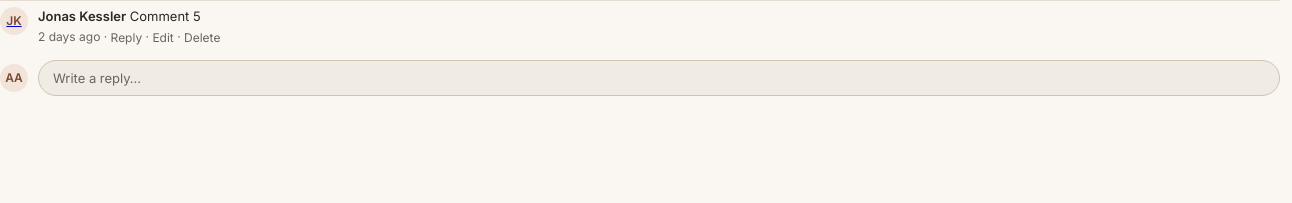
Test case: CommentThread › puts a comment back with the API message when the delete is refused (403)
The image size is (1292, 203).
Click the button named "Delete comment by Jonas Kessler" at (202,38), box [184,26,220,50]
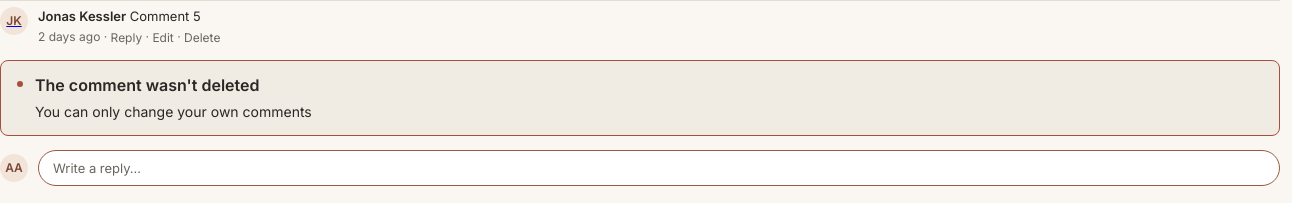
expect the text "Comment 5" is shown: met, box [130,8,201,24]
expect the text "You can only change your own comments" is shown: met, box [35,103,312,120]
